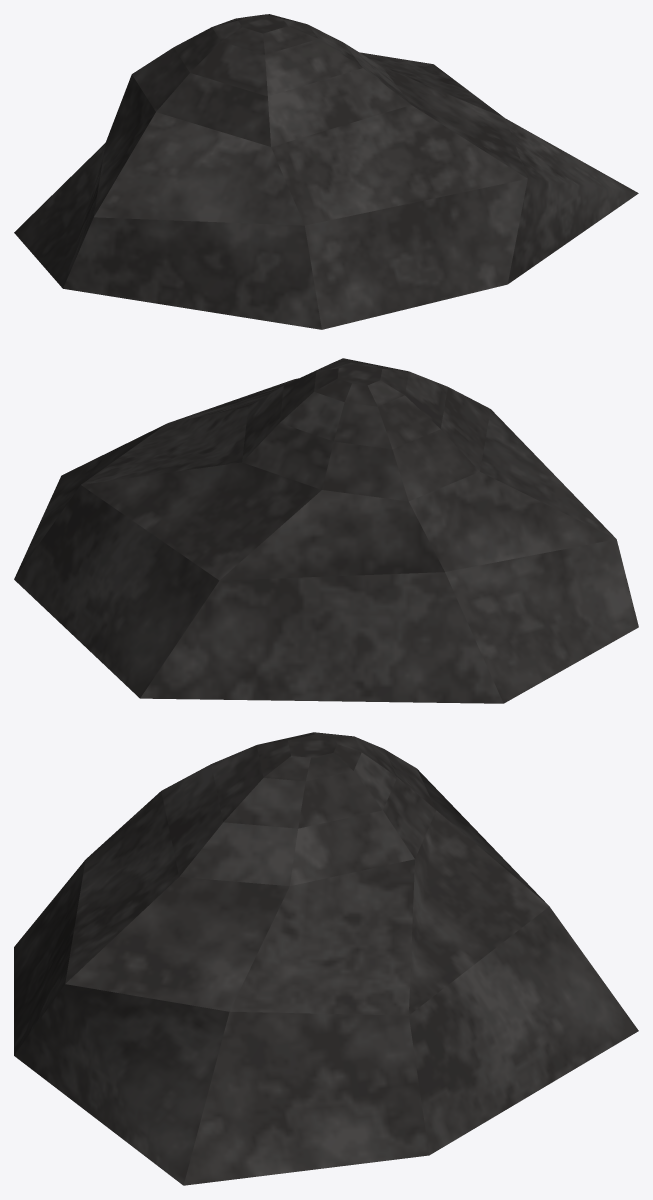
File: rock3.glb
The picture shows the model from 3 angles, top to bottom: view 1: azimuth 30°, elevation 25°; view 2: azimuth 150°, elevation 25°; view 3: azimuth 270°, elevation 25°; orthographic projection. The views are drawn at different scales.
Parts seen in each view (by area): view 1: Cylinder.002; view 2: Cylinder.002; view 3: Cylinder.002.
Part boxes in pixels (x1,y1,x2,y2): Cylinder.002: (14,14,638,329); Cylinder.002: (14,358,638,703); Cylinder.002: (14,732,638,1185).
Bounding box in the file's own units: 7.98 × 2.97 × 6.57.
1 material, 1 textured.
